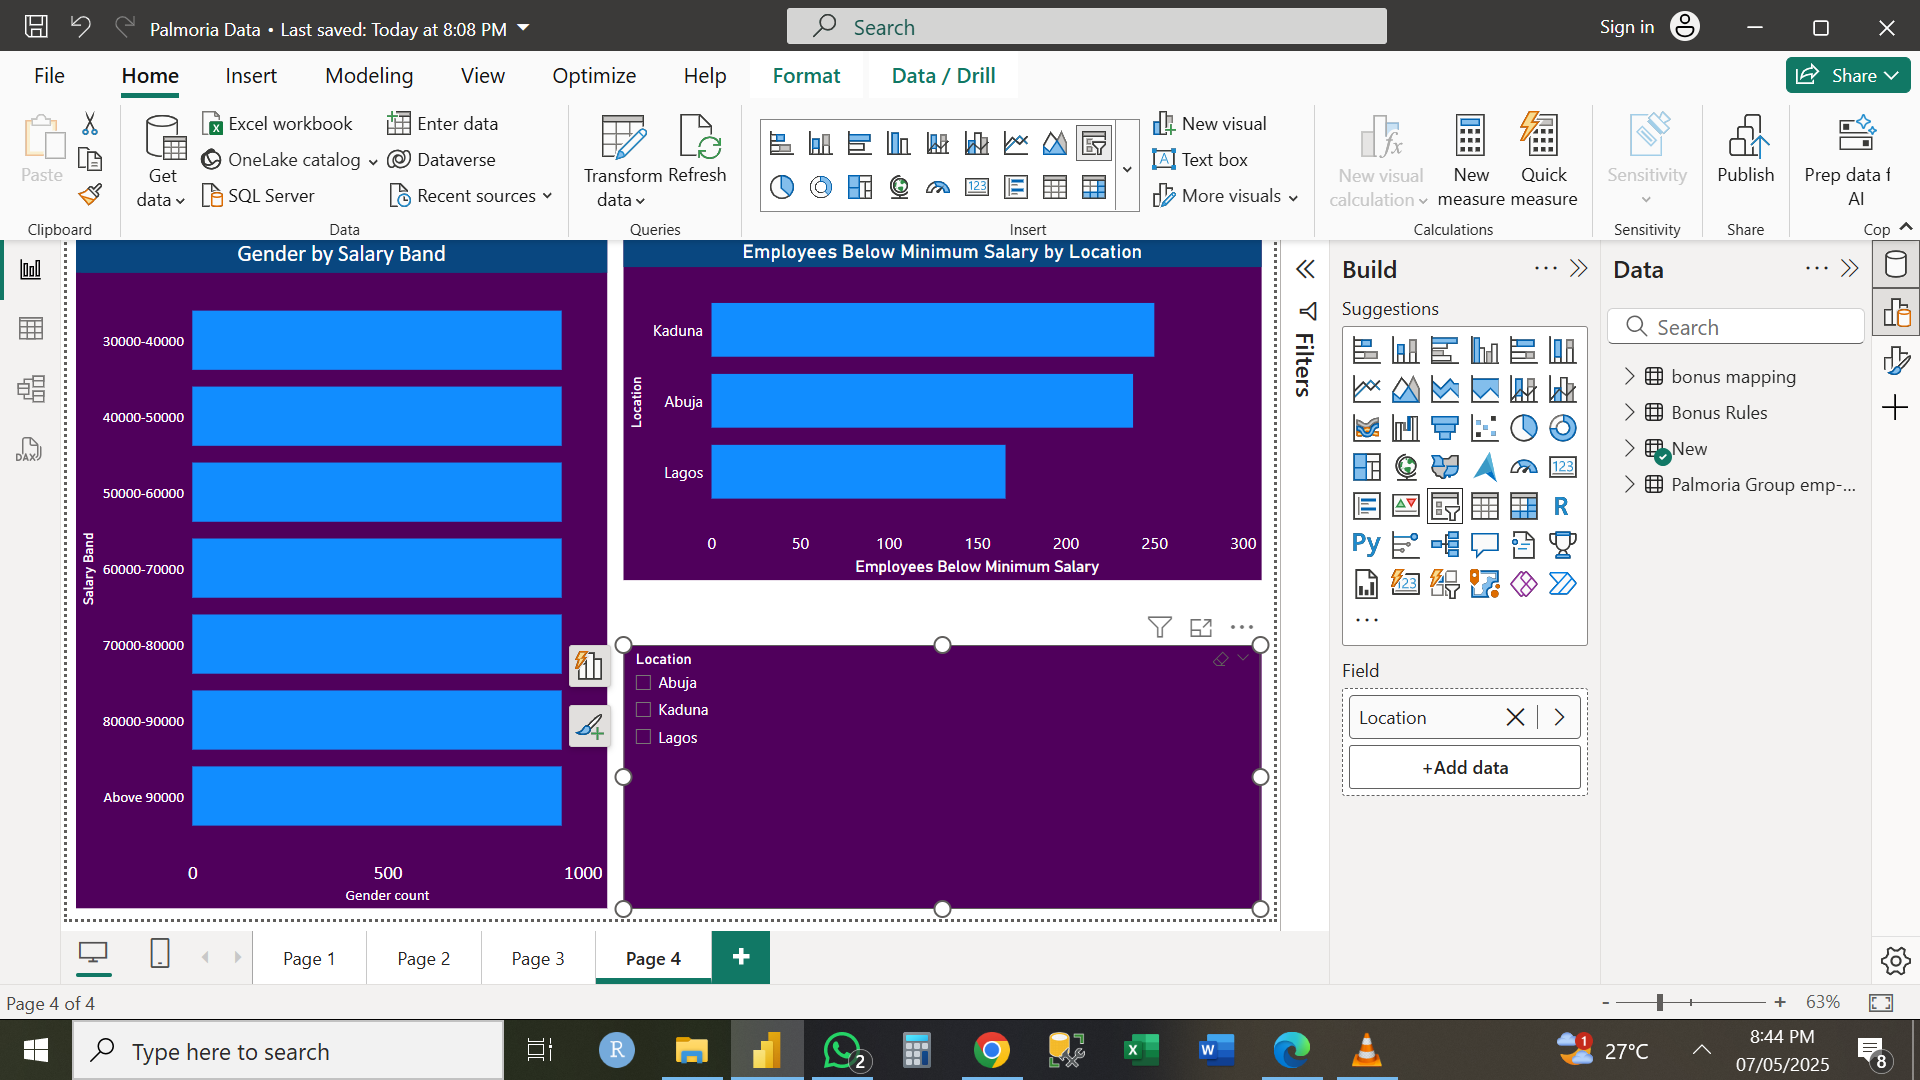

The dashboard page shown, as its layout file describes it:
{"tool":"powerbi","page":{"name":"Page 4","canvas":[1280,720],"ordinal":3},"visuals":[{"type":"clusteredBarChart","title":"Gender by Salary Band","fields":{"Category":["New.Salary Band"],"Y":["New.Gender count"]},"box":[10.1,0,563,708.9],"z":0},{"type":"slicer","fields":{"Values":["New.Location"]},"box":[589.4,429.4,676.5,279.5],"z":1000},{"type":"barChart","fields":{"Y":["New.Employees Below Minimum Salary"],"Category":["New.Location"]},"box":[589.4,0,676.5,360.5],"z":2000}]}

Visuals, with their boxes on the page's 1280x720 design canvas (x1, y1, x2, y2). These are canvas units, not pixel positions in the 1920x1080 screenshot, which may show the page scaled, cropped or inside an application window:
"Gender by Salary Band" clusteredBarChart: 10 0 573 709
slicer - New.Location: 589 429 1266 709
barChart - New.Employees Below Minimum Salary x New.Location: 589 0 1266 360
